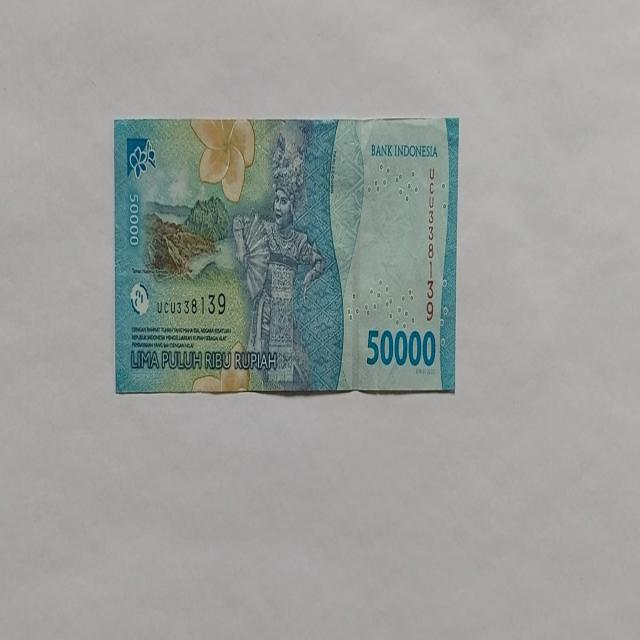lima puluh ribu rupiah: (113, 116, 459, 396), (231, 130, 327, 390)
